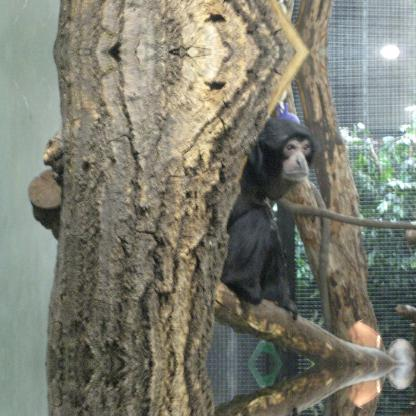Monkey: (222, 117, 320, 320)
